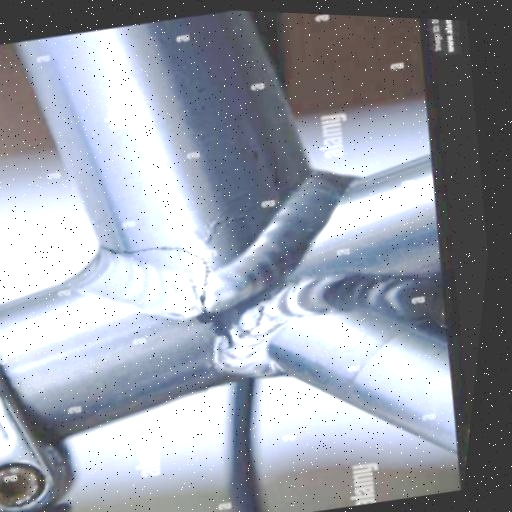crack: (91, 221, 229, 346)
